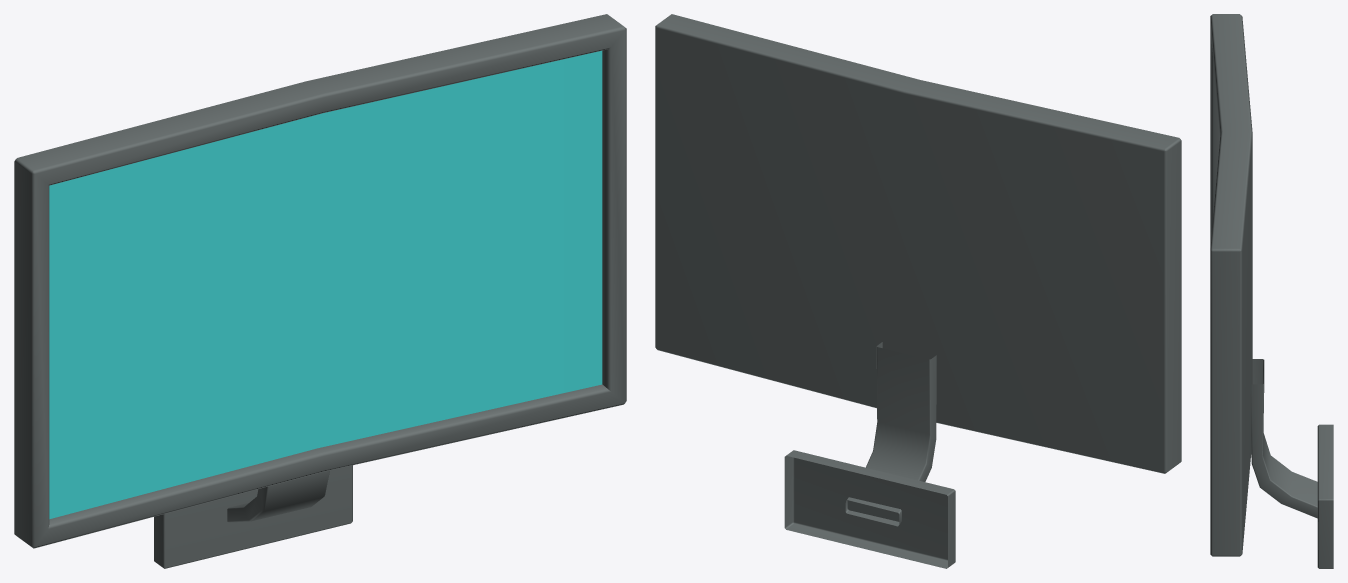
Rendered from Big Screen.fbx.
The picture shows the model from 3 angles, left to right: view 1: azimuth 30°, elevation 25°; view 2: azimuth 150°, elevation 25°; view 3: azimuth 270°, elevation 25°; orthographic projection. The views are drawn at different scales.
Visible parts, largest first — view 1: Big_screen; view 2: Big_screen; view 3: Big_screen.
Part boxes in pixels (<box>): Big_screen: <box>14,14,626,568</box>; Big_screen: <box>655,14,1181,568</box>; Big_screen: <box>1210,14,1333,568</box>.
Bounding box in the file's own units: 313 × 249 × 69.16.
